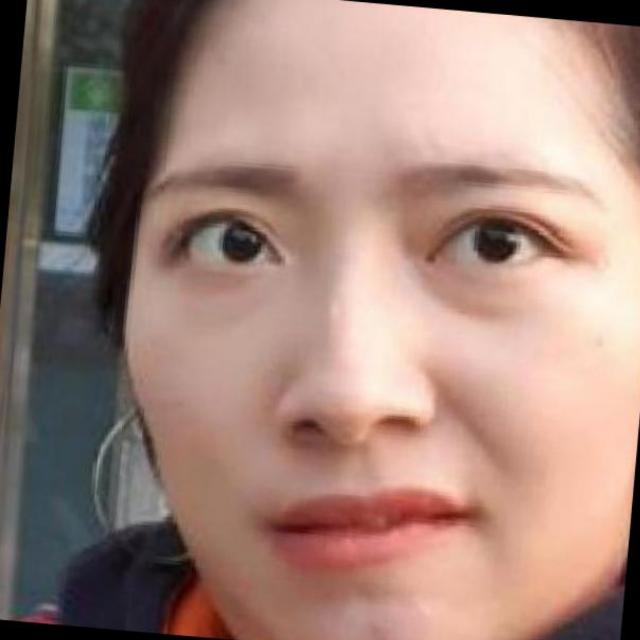Natural: (62, 39, 639, 640)
